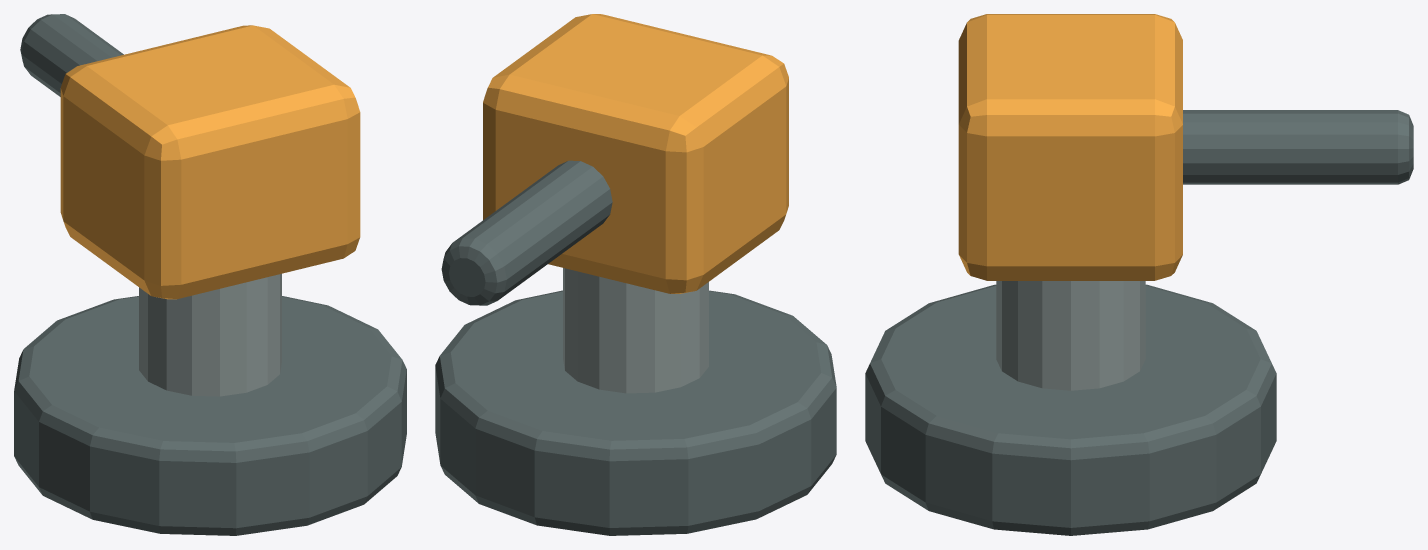
The model's file is turret.glb.
3 renders of one model, left to right at view 1: azimuth 30°, elevation 25°; view 2: azimuth 150°, elevation 25°; view 3: azimuth 270°, elevation 25°, orthographic. The views are drawn at different scales.
Parts seen in each view (by area): view 1: Turret foot, Turret head, Turret stem, Turret gun; view 2: Turret foot, Turret head, Turret stem, Turret gun; view 3: Turret foot, Turret head, Turret gun, Turret stem.
Boxes of the visible parts, bbox=[...] form: Turret foot: bbox=[14, 296, 406, 535]; Turret head: bbox=[60, 25, 360, 299]; Turret stem: bbox=[139, 273, 281, 396]; Turret gun: bbox=[20, 14, 123, 96]; Turret foot: bbox=[435, 290, 836, 535]; Turret head: bbox=[483, 14, 788, 293]; Turret stem: bbox=[563, 268, 708, 393]; Turret gun: bbox=[441, 160, 612, 305]; Turret foot: bbox=[865, 284, 1276, 535]; Turret head: bbox=[958, 14, 1182, 280]; Turret gun: bbox=[1183, 110, 1413, 184]; Turret stem: bbox=[996, 281, 1145, 390].
Size of the model in its own units: 0.66 by 0.705 by 0.88.
